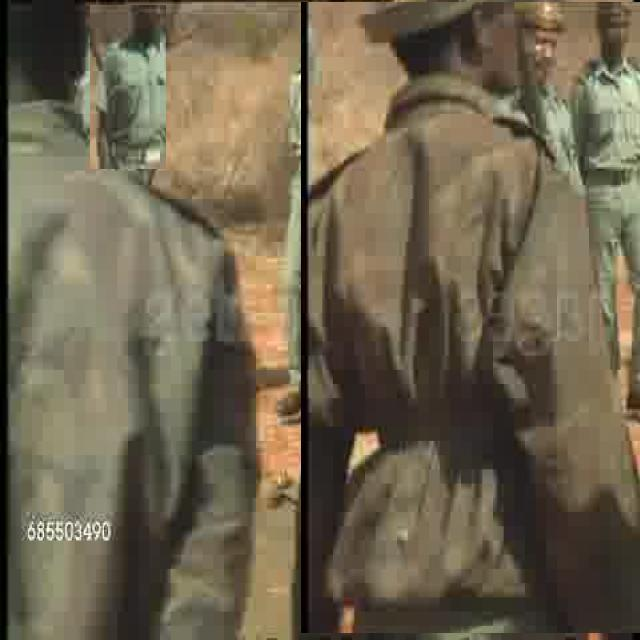poacher: (301, 2, 640, 633), (1, 2, 256, 608), (272, 1, 366, 424), (90, 5, 166, 169), (360, 2, 419, 156)
